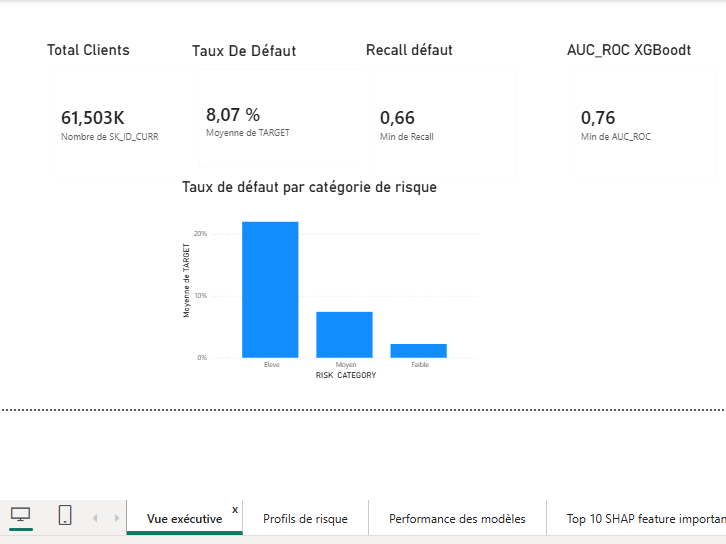

What the dashboard file says about the page in this screenshot:
{"tool":"powerbi","page":{"name":"Vue exécutive ","canvas":[1280,720],"ordinal":0},"visuals":[{"type":"cardVisual","title":"Total Clients","fields":{"Data":["CountNonNull(Fact_Clients.SK_ID_CURR)"]},"box":[79,72.2,285.6,257],"z":0},{"type":"cardVisual","title":"Taux De Défaut","fields":{"Data":["Avg(Fact_Clients.TARGET)"]},"box":[334.3,72.2,349.4,241.9],"z":1},{"type":"cardVisual","title":"AUC_ROC XGBoodt","fields":{"Data":["Min(Dim_Modeles.AUC_ROC)"]},"box":[994.4,72.2,285.6,257],"z":2},{"type":"cardVisual","title":"Recall défaut","fields":{"Data":["Min(Dim_Modeles.Recall)"]},"box":[640,72.2,287.2,257],"z":3},{"type":"clusteredColumnChart","title":"Taux de défaut par catégorie de risque","fields":{"Category":["Fact_Clients.RISK_CATEGORY"],"Y":["Avg(Fact_Clients.TARGET)"]},"box":[317.5,314.1,534.2,359.5],"z":4}]}

Visuals, with their boxes on the page's 1280x720 design canvas (x1, y1, x2, y2). These are canvas units, not pixel positions in the 726x544 screenshot, which may show the page scaled, cropped or inside an application window:
"Total Clients" cardVisual: 79 72 365 329
"Taux De Défaut" cardVisual: 334 72 684 314
"AUC_ROC XGBoodt" cardVisual: 994 72 1280 329
"Recall défaut" cardVisual: 640 72 927 329
"Taux de défaut par catégorie de risque" clusteredColumnChart: 318 314 852 674
